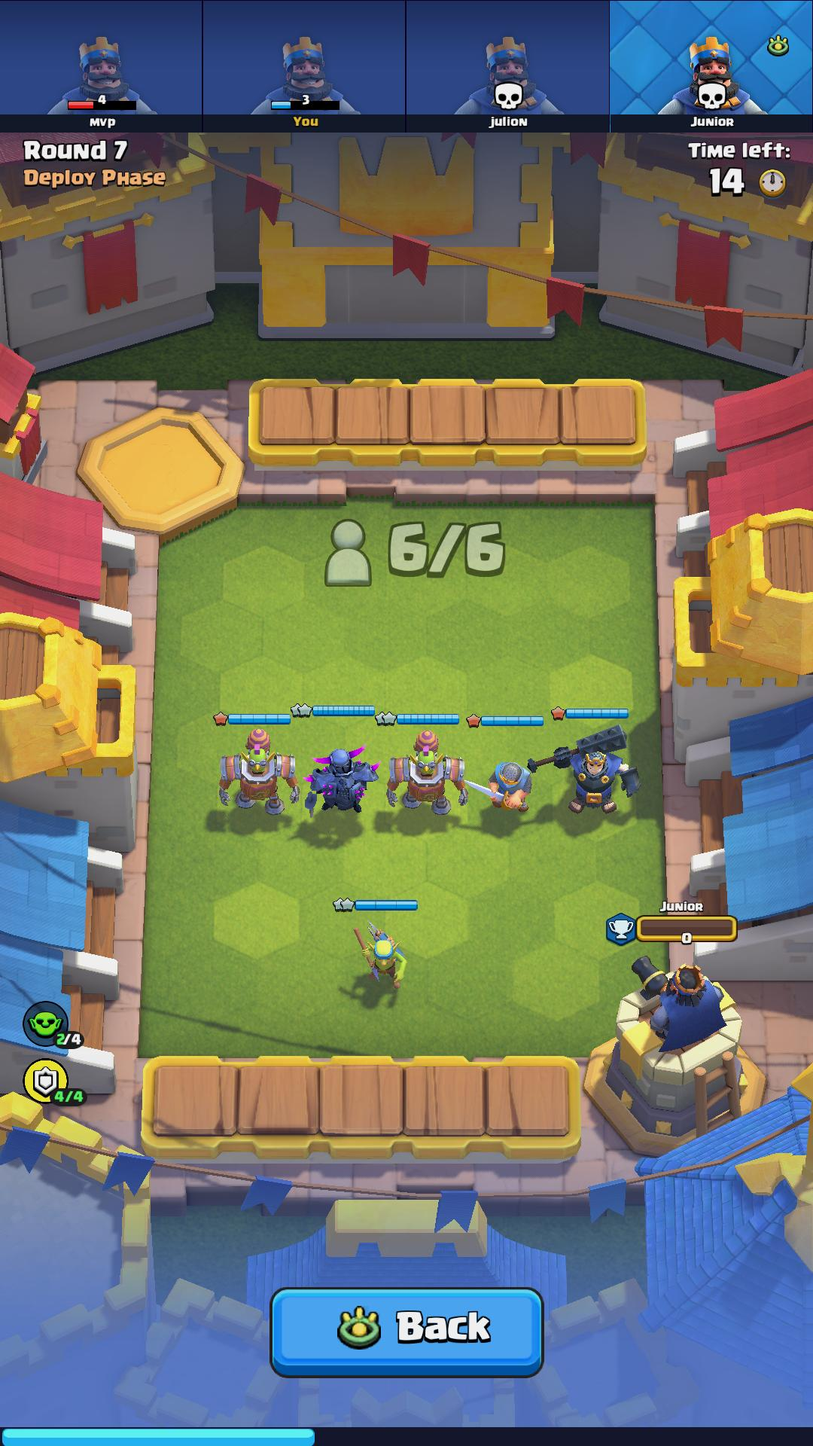king: (546, 725, 638, 818)
knight: (477, 744, 534, 817)
machine: (388, 728, 473, 817), (221, 727, 298, 818)
pekka: (303, 739, 376, 818)
spear: (347, 913, 413, 990)
